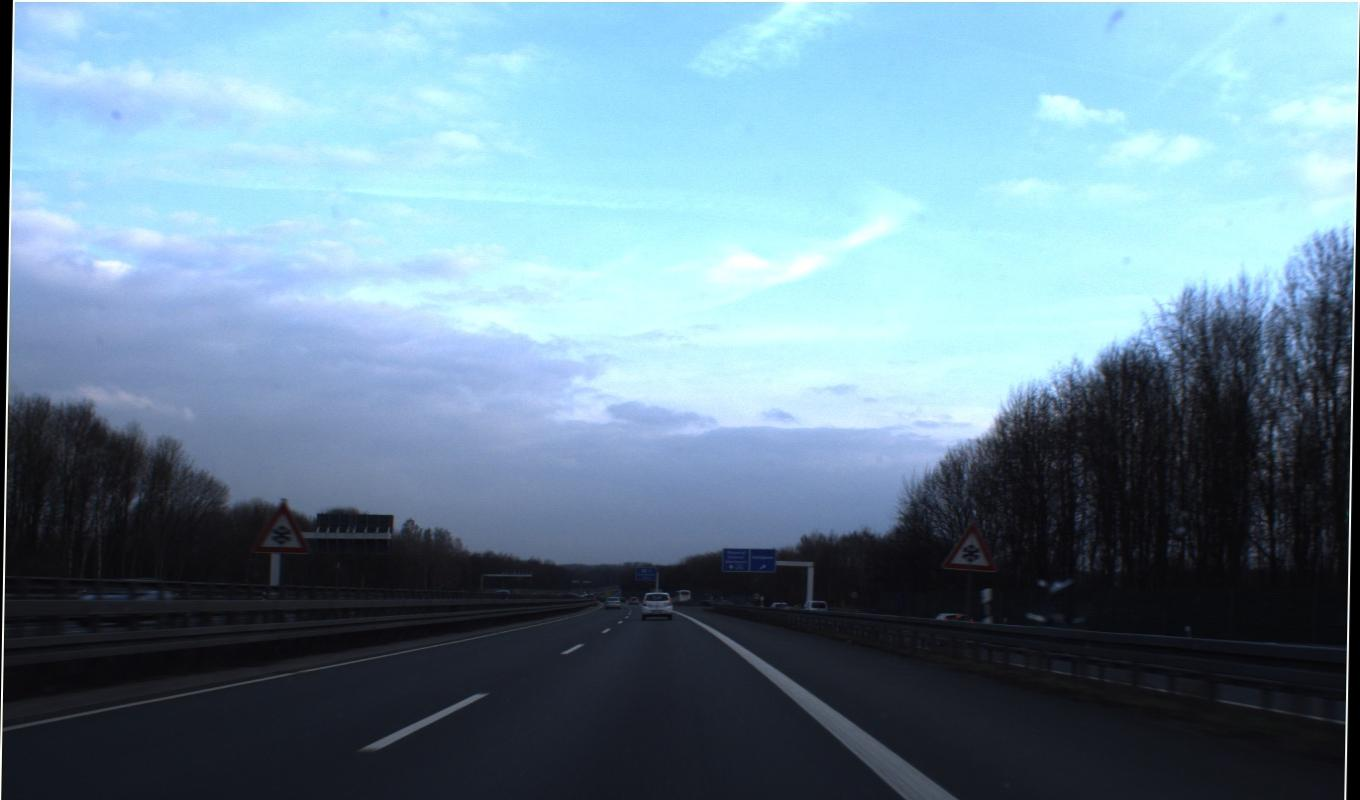snow: (250, 499, 999, 573)
